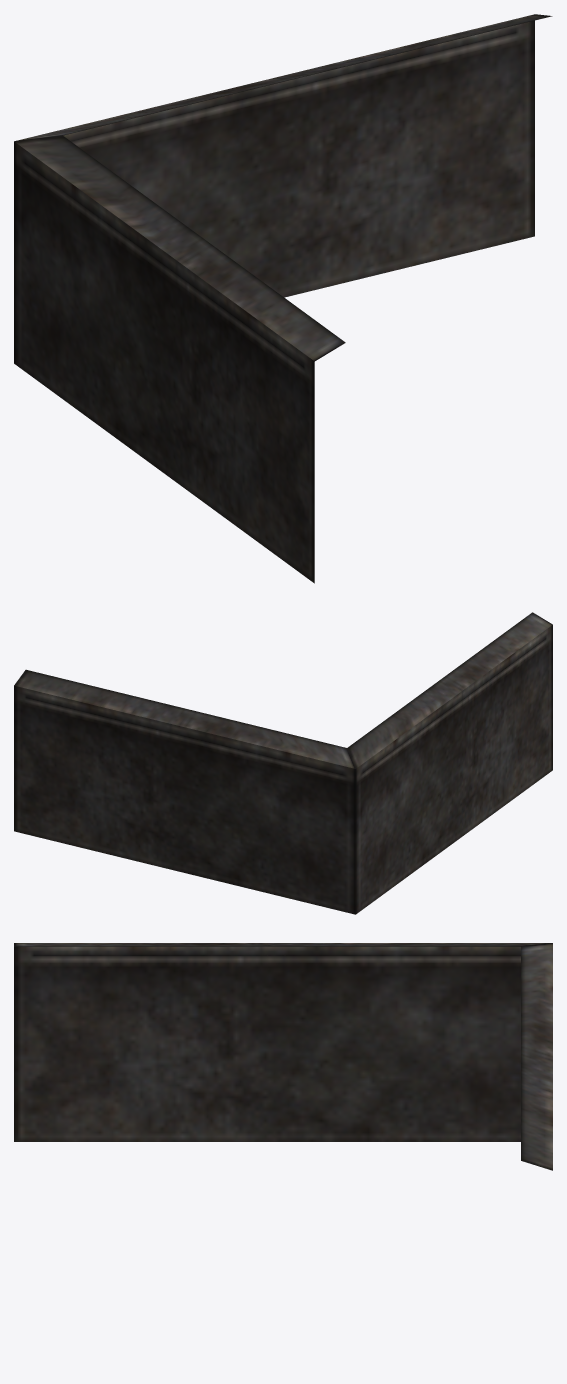
File: convex_skinny_foot_lab.dae
3 renders of one model, top to bottom at view 1: azimuth 30°, elevation 25°; view 2: azimuth 150°, elevation 25°; view 3: azimuth 270°, elevation 25°, orthographic. The views are drawn at different scales.
Parts seen in each view (by area): view 1: lab_convex_skinny; view 2: lab_convex_skinny; view 3: lab_convex_skinny.
Boxes of the visible parts, x1,y1,x2,y2 form: lab_convex_skinny: (14,14,552,583); lab_convex_skinny: (14,612,552,914); lab_convex_skinny: (14,943,552,1170).
Bounding box in the file's own units: 1.06 × 0.4553 × 1.06.
